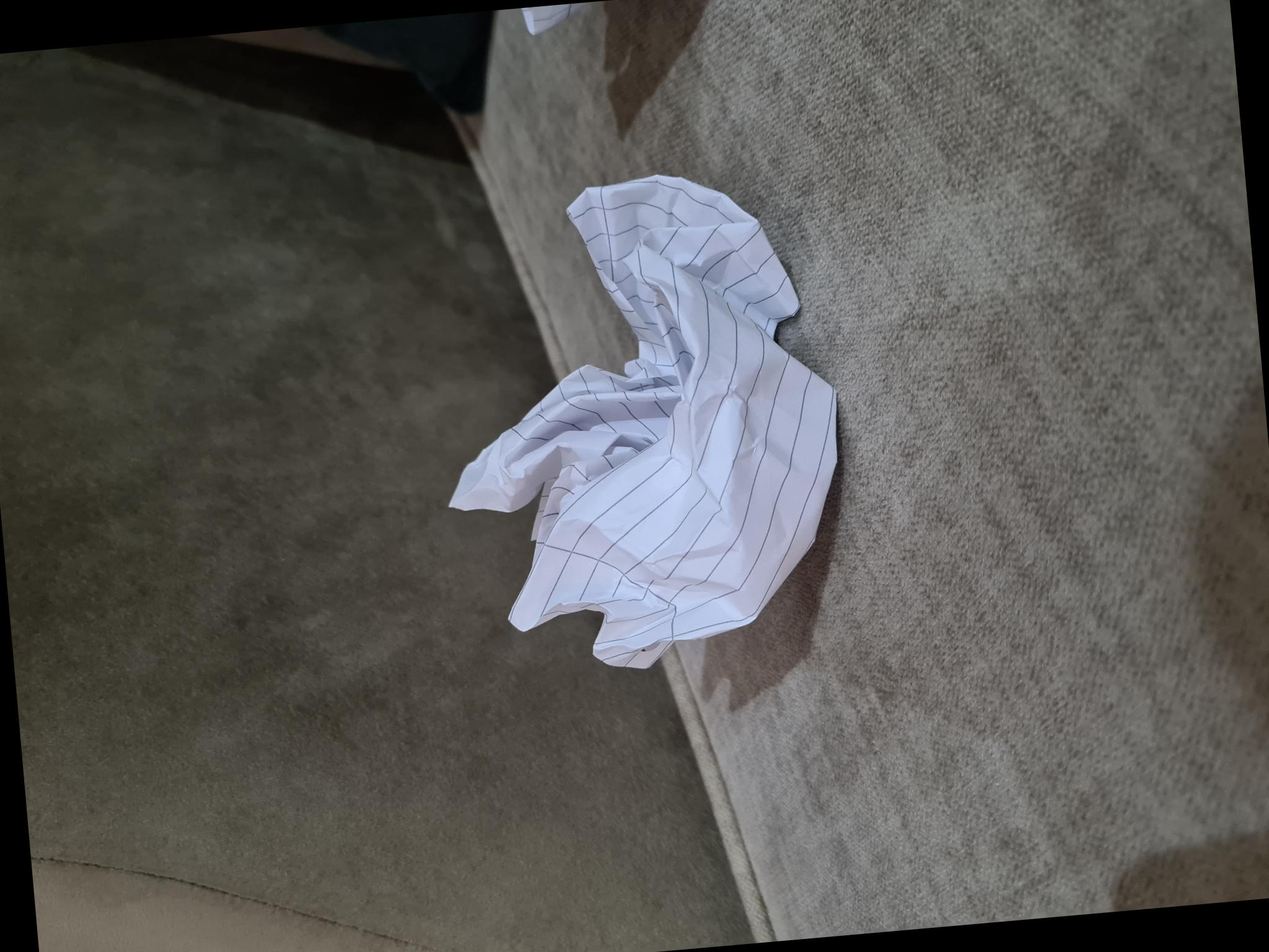Kertas: (300, 524, 790, 848)
